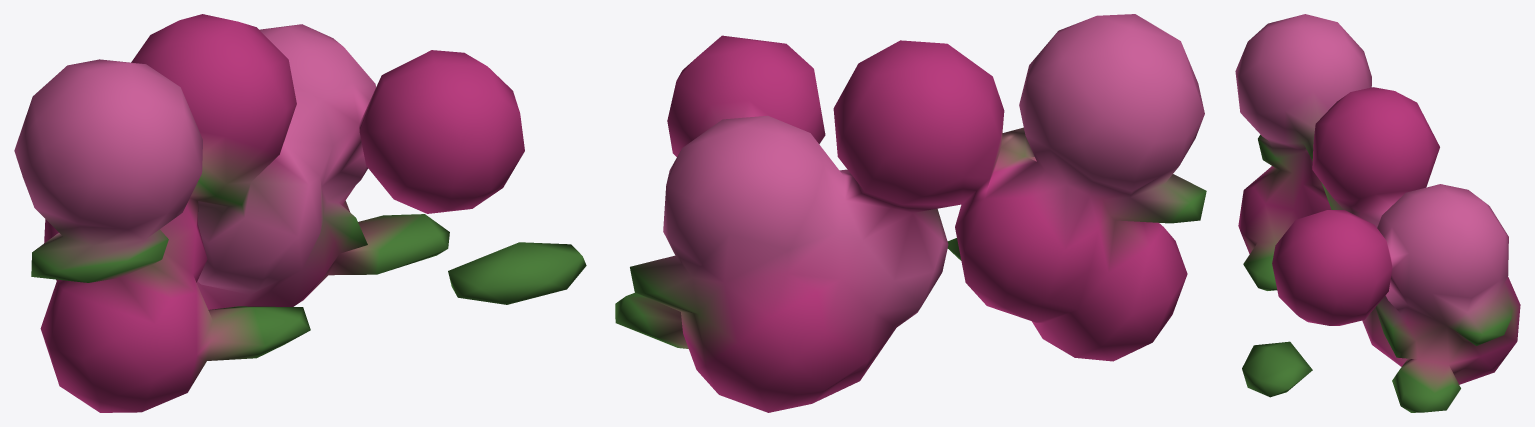
File: bong_giay.glb
3 renders of one model, left to right at view 1: azimuth 30°, elevation 25°; view 2: azimuth 150°, elevation 25°; view 3: azimuth 270°, elevation 25°, orthographic. The views are drawn at different scales.
Visible parts, largest first — view 1: bong_giay; view 2: bong_giay; view 3: bong_giay.
Boxes of the visible parts, box(x1,y1,x2,y2) form: bong_giay: box(14, 14, 586, 412); bong_giay: box(615, 14, 1206, 412); bong_giay: box(1235, 14, 1520, 412).
Size of the model in its own units: 0.2391 by 0.1593 by 0.15.
